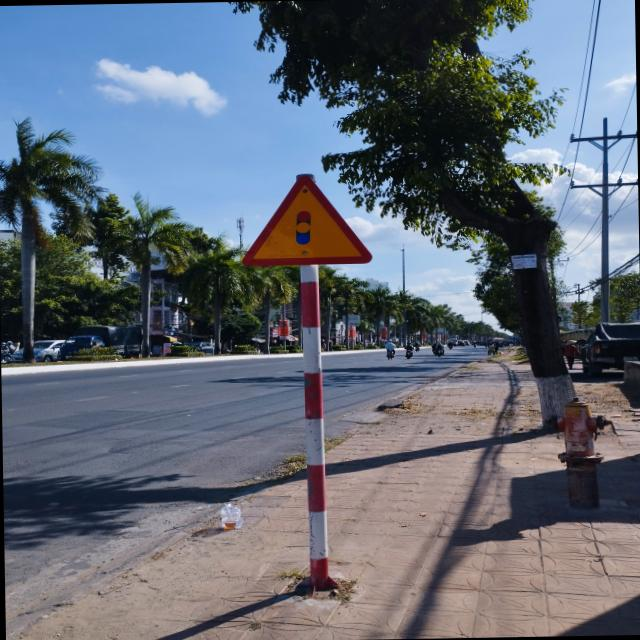Duong_Co_Go_Giam_Toc: (240, 170, 372, 266)
